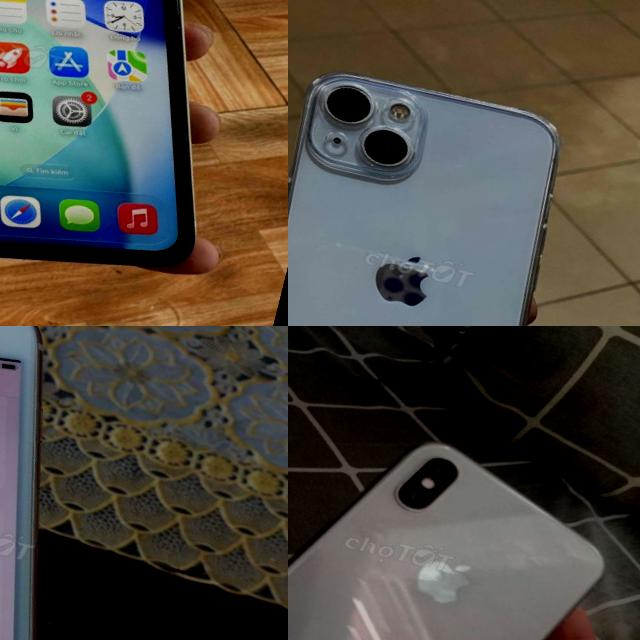gen_11: (0, 0, 194, 265)
gen_12_13: (288, 54, 593, 326)
gen_7_8: (0, 326, 159, 640)
gen_x_xs: (288, 443, 602, 640)
